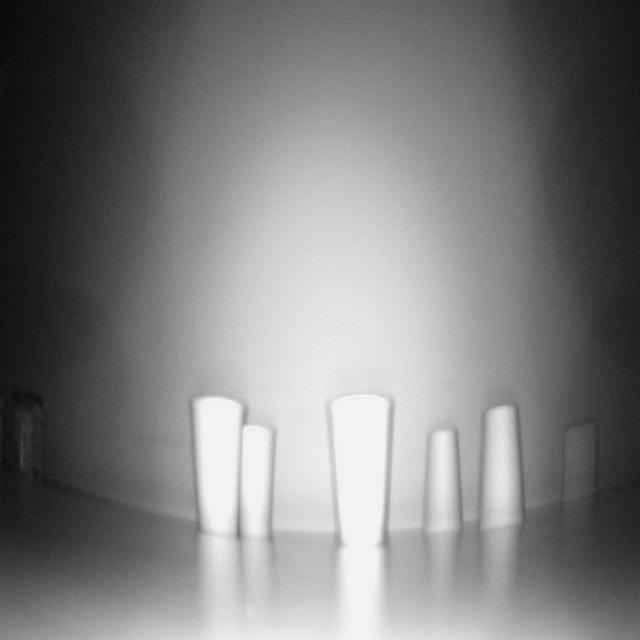targets: (190, 393, 275, 538), (330, 392, 394, 542), (476, 402, 528, 529), (419, 432, 466, 532), (559, 423, 602, 510), (8, 396, 45, 484)
